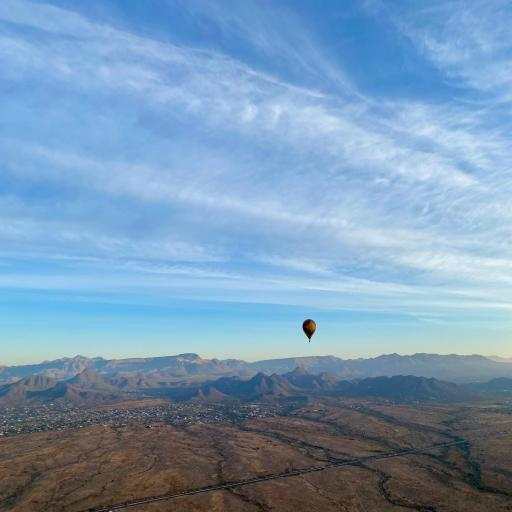hot air ballon: (301, 312, 318, 348)
